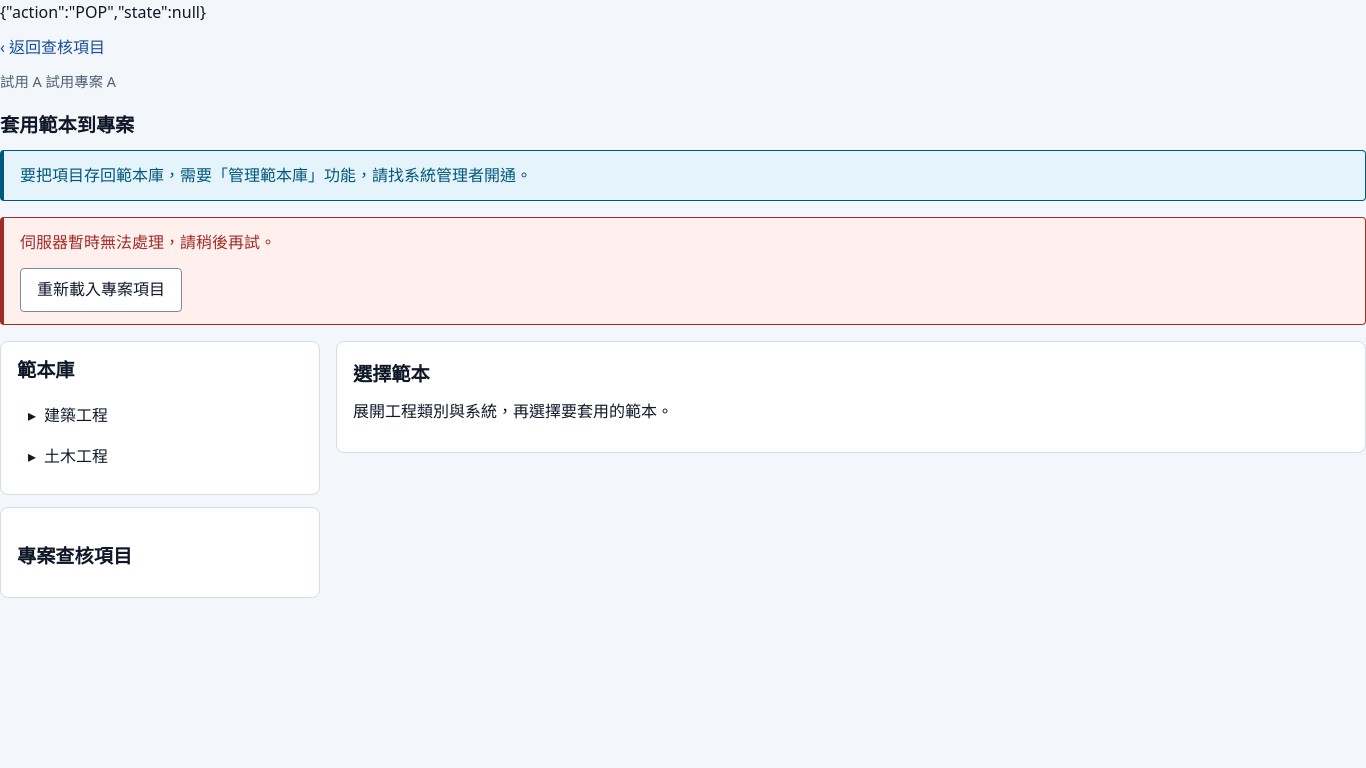
Test: 專案範本套用與存為範本（#429） › 初載項目失敗時停用套用並可重試
The image size is (1366, 768).
Click the button "▸ 建築工程": (76, 415) [17,395,303,436]
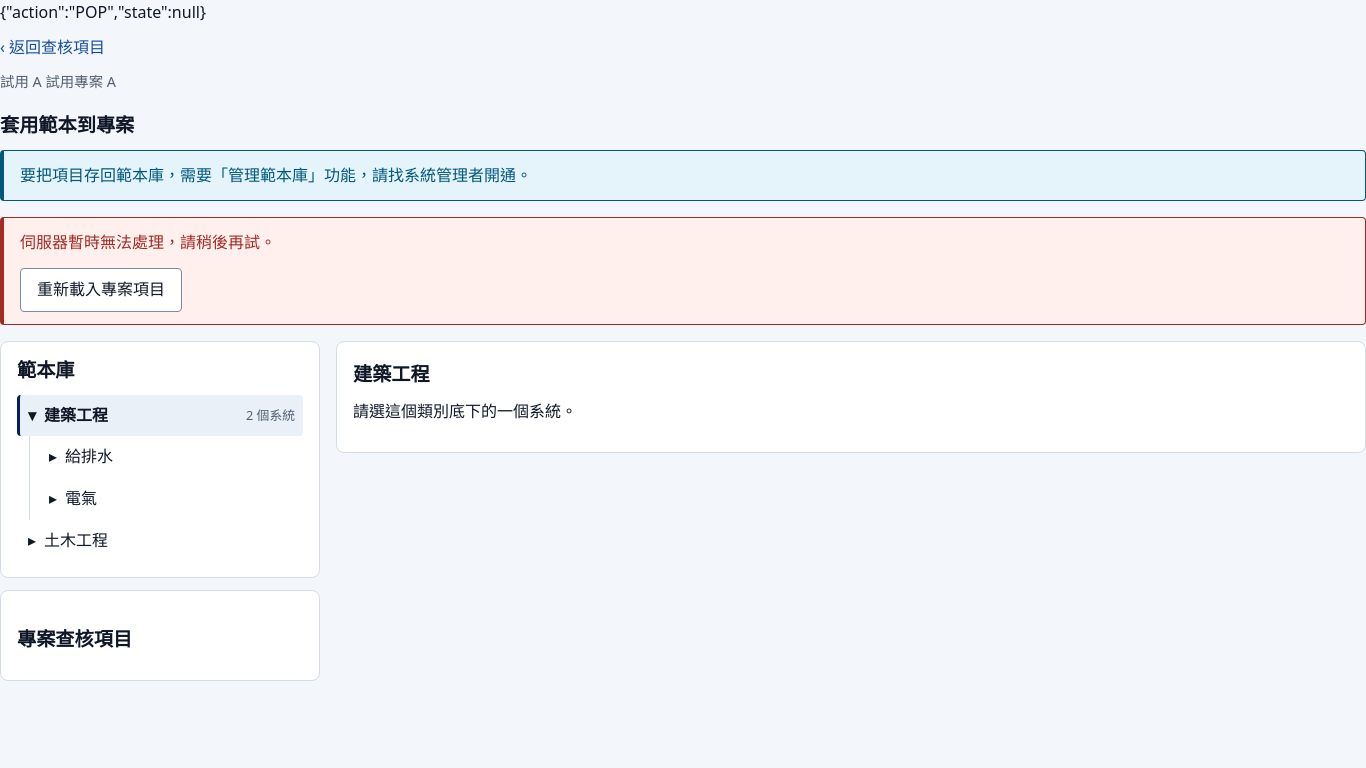
Click the button "▸ 給排水": (89, 456) [38,436,303,478]
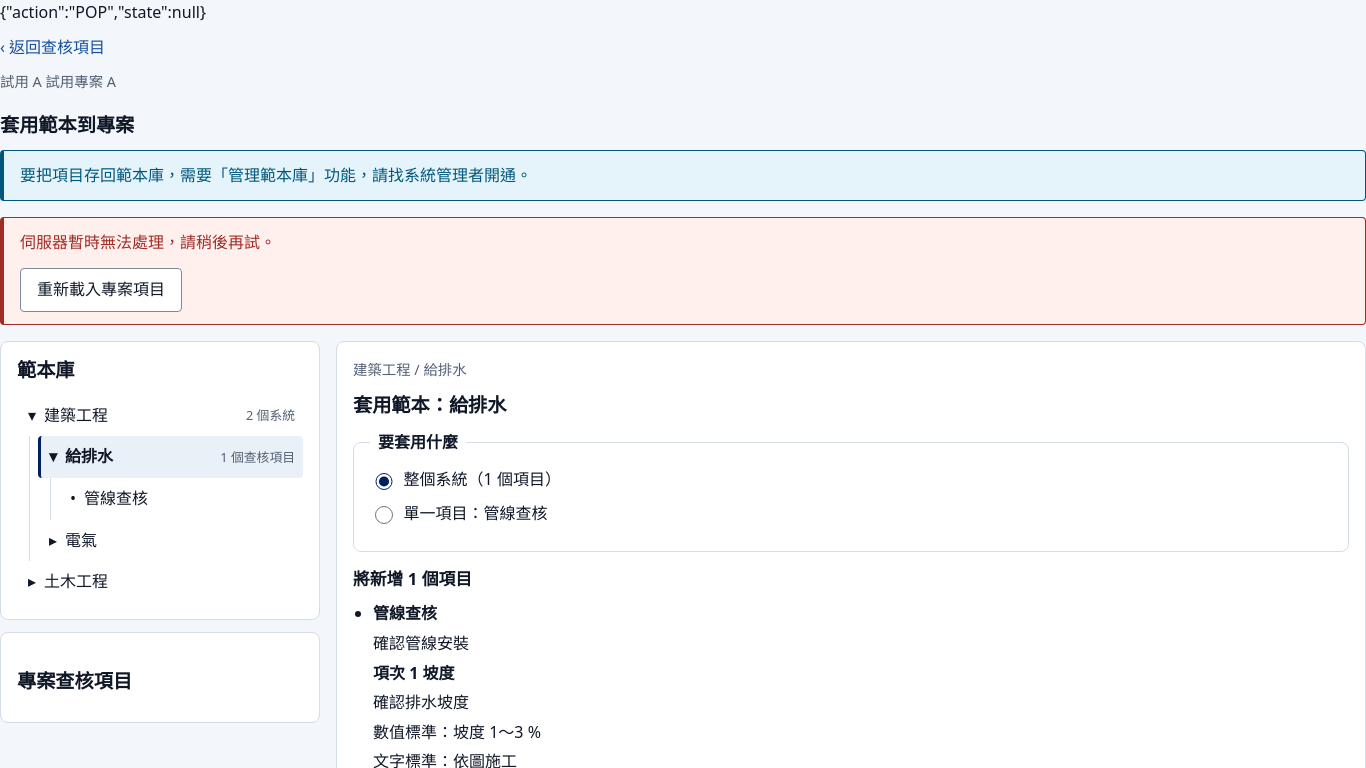
Click the button "• 管線查核": (181, 499) [59,478,303,520]
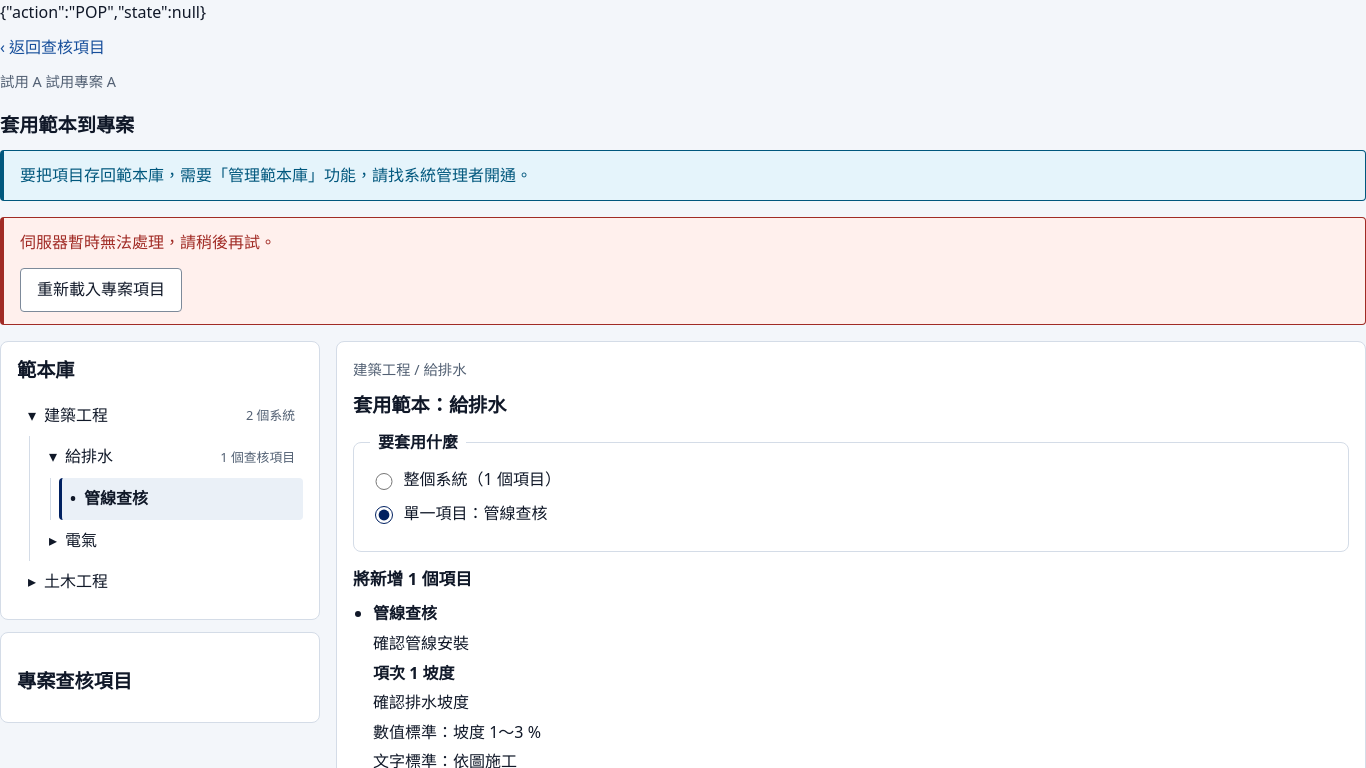
Expected: the text "伺服器暫時無法處理，請稍後再試。 重新載入專案項目" is shown, [0,217,1365,325]
Click the button "重新載入專案項目": (101, 290) [20,268,182,312]
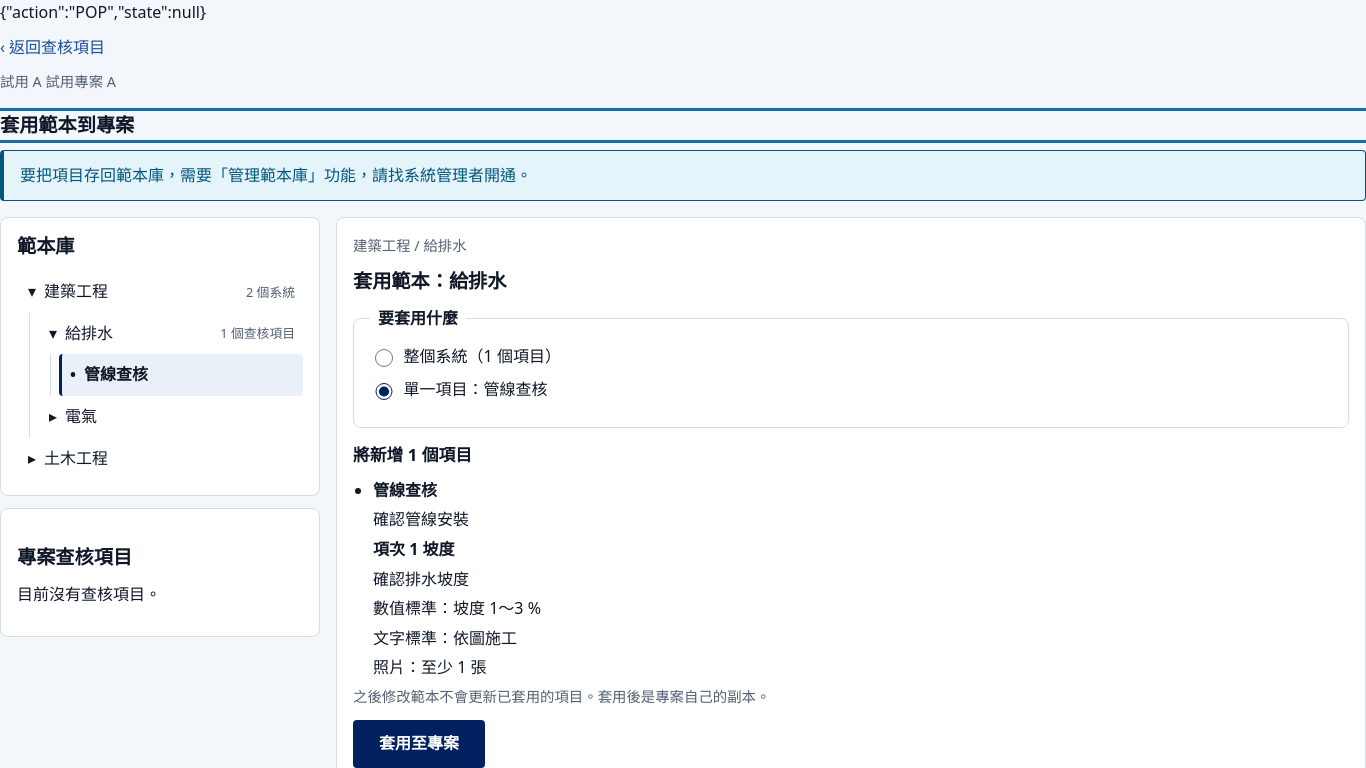
Expected: the button "套用至專案" is enabled, [353,720,485,767]
